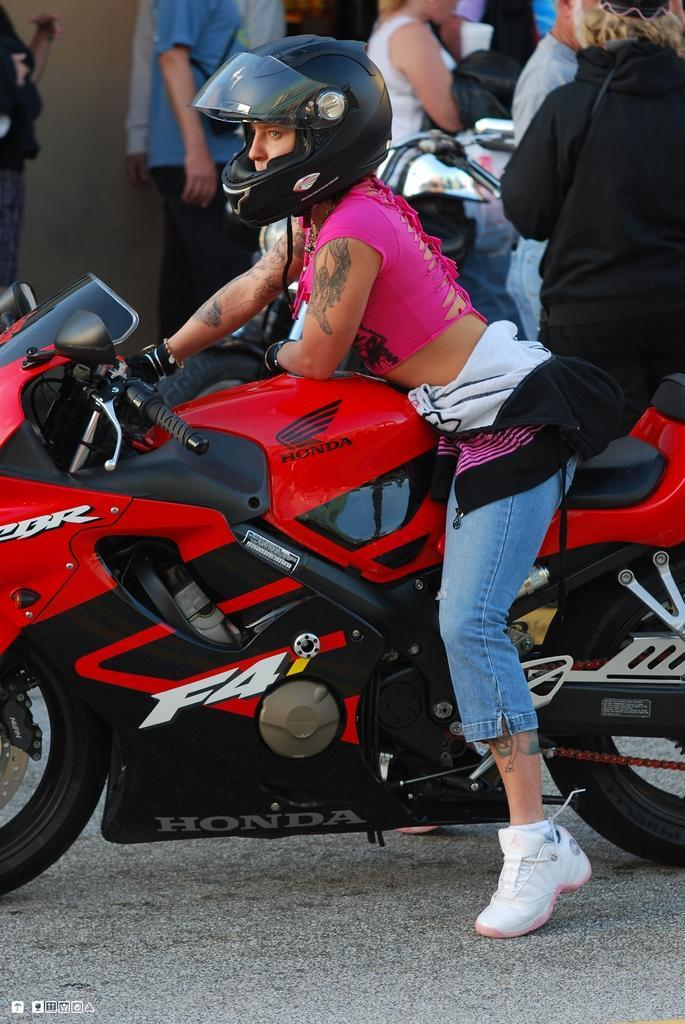helmet: (186, 32, 394, 230)
